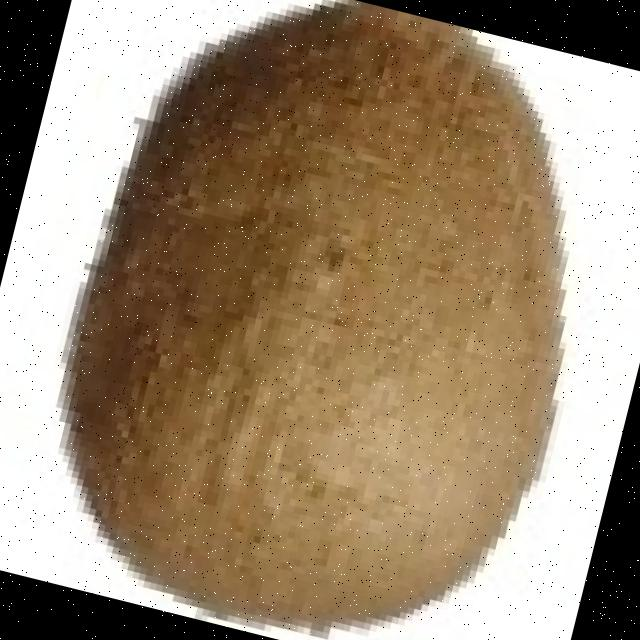kiwi: (75, 14, 562, 635)
